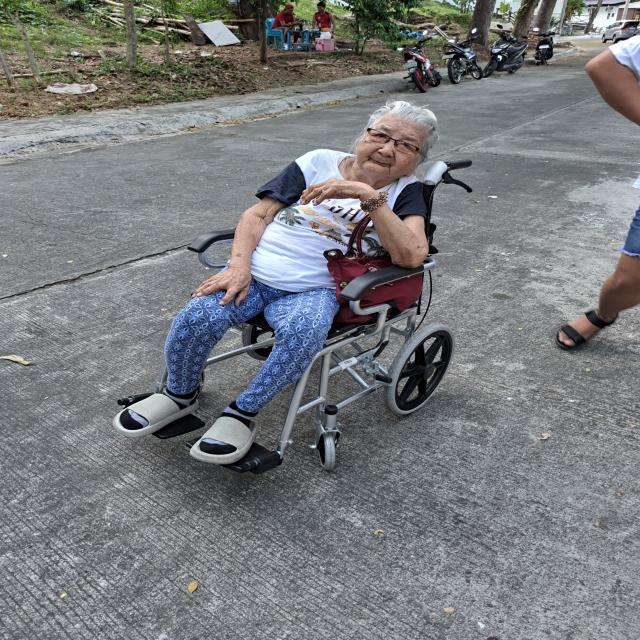wheelchairs: (115, 156, 473, 478)
